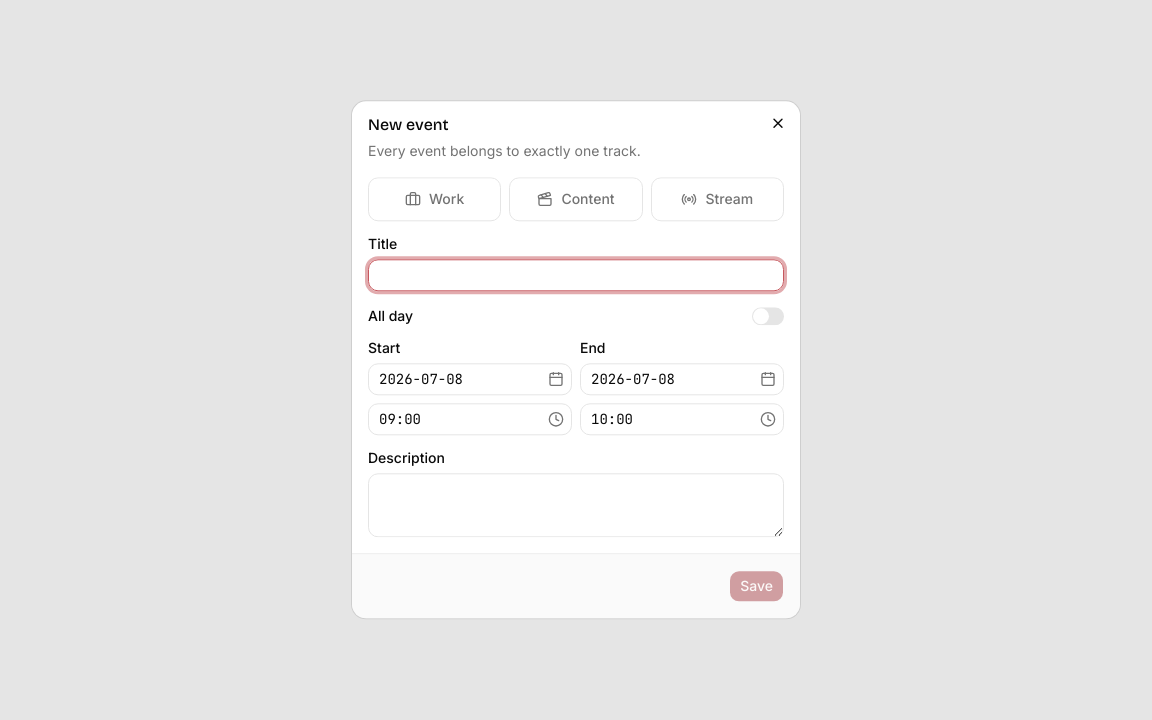
Test: EventEditor — create mode › picking a start time from the list updates only that field
Click the button named "Choose starting time": (556, 420) [544,408,568,432]
(page scrolled)
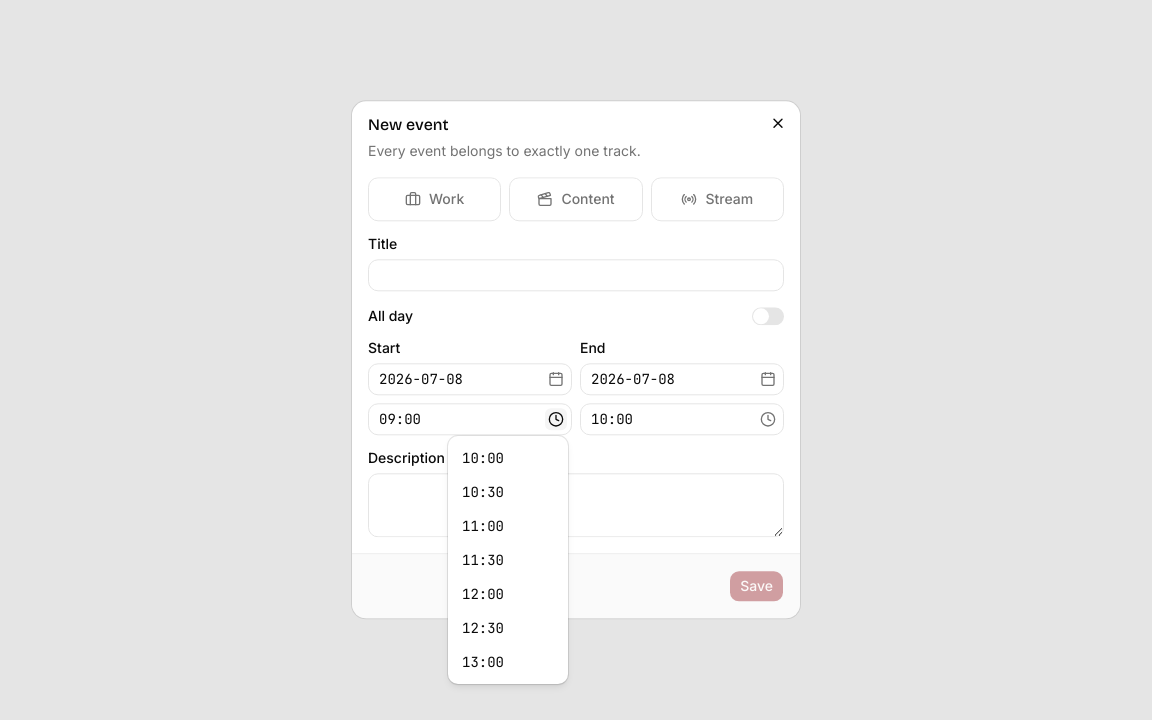
Click the option "11:30": (508, 560) [452,544,564,576]
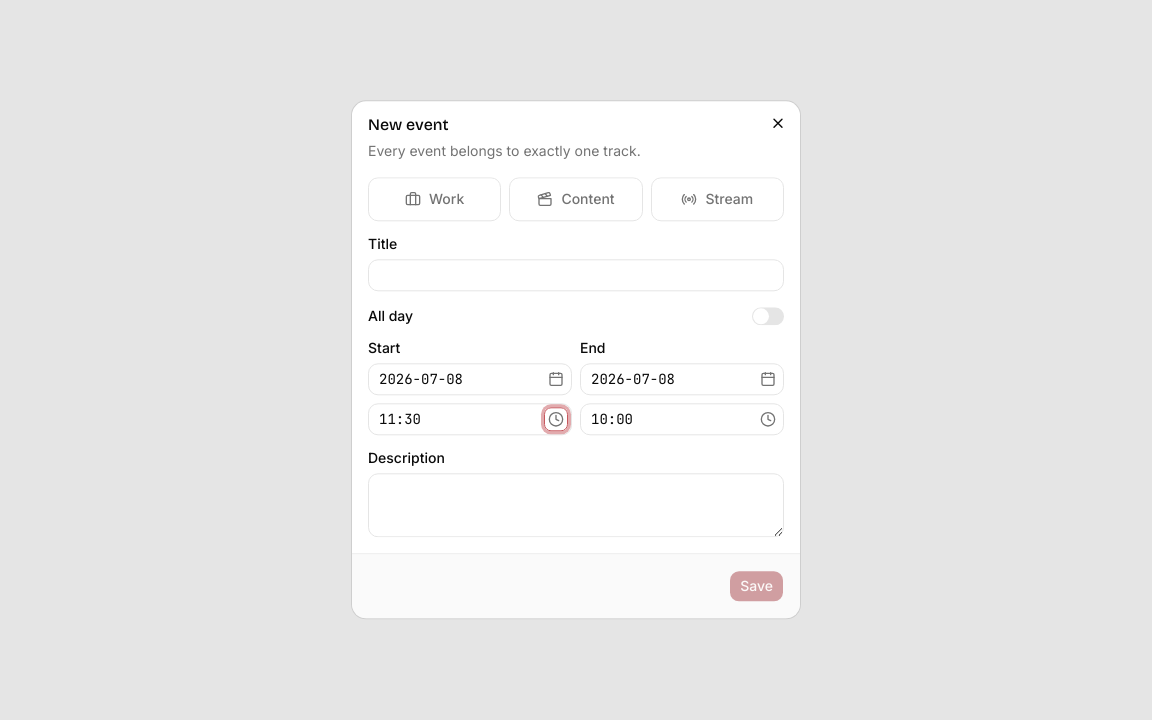
Expected: the field named "End time" holds "10:00", [581,404,756,436]
Now the field named "Start time" holds "11:30", box [369,404,544,436]
